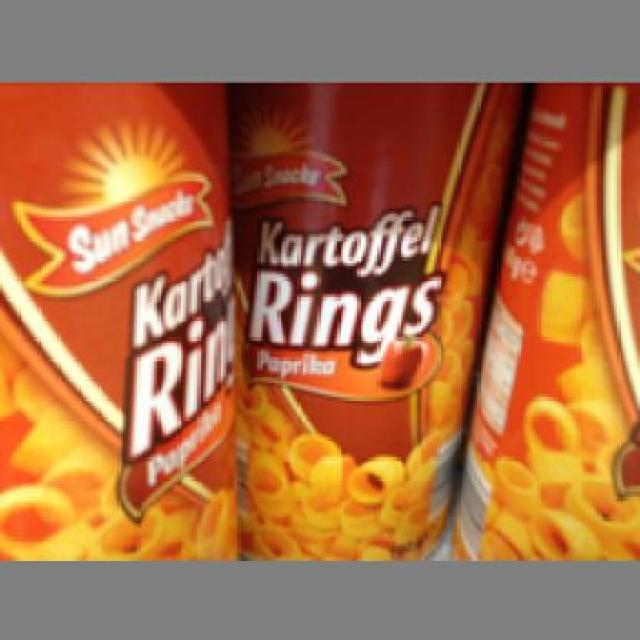Chips: (229, 82, 500, 552), (0, 81, 232, 558), (465, 79, 638, 552)
